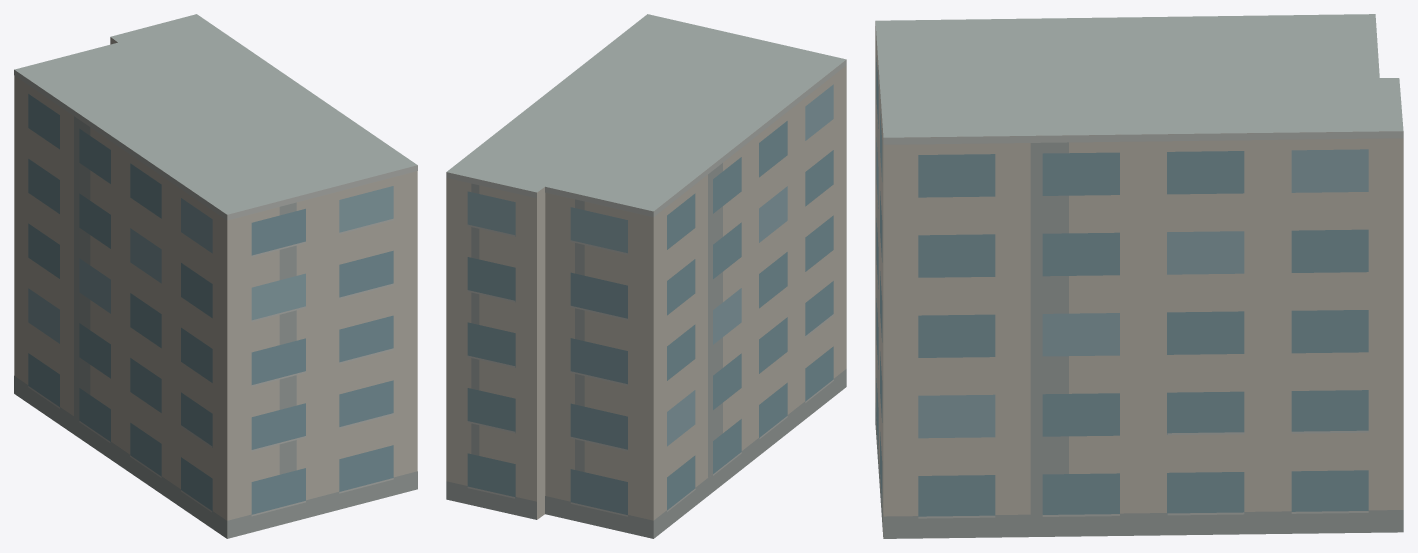
The model's file is survey-upis-32836716.glb.
3 renders of one model, left to right at view 1: azimuth 30°, elevation 25°; view 2: azimuth 150°, elevation 25°; view 3: azimuth 270°, elevation 25°, orthographic. The views are drawn at different scales.
Visible parts, largest first — view 1: survey-upis-32836716.tmp; view 2: survey-upis-32836716.tmp; view 3: survey-upis-32836716.tmp.
Boxes of the visible parts, x1=… form: survey-upis-32836716.tmp: x1=14, y1=14, x2=417, y2=538; survey-upis-32836716.tmp: x1=446, y1=14, x2=846, y2=538; survey-upis-32836716.tmp: x1=875, y1=14, x2=1403, y2=538.
Bounding box in the file's own units: 9.14 × 13.8 × 16.48.
